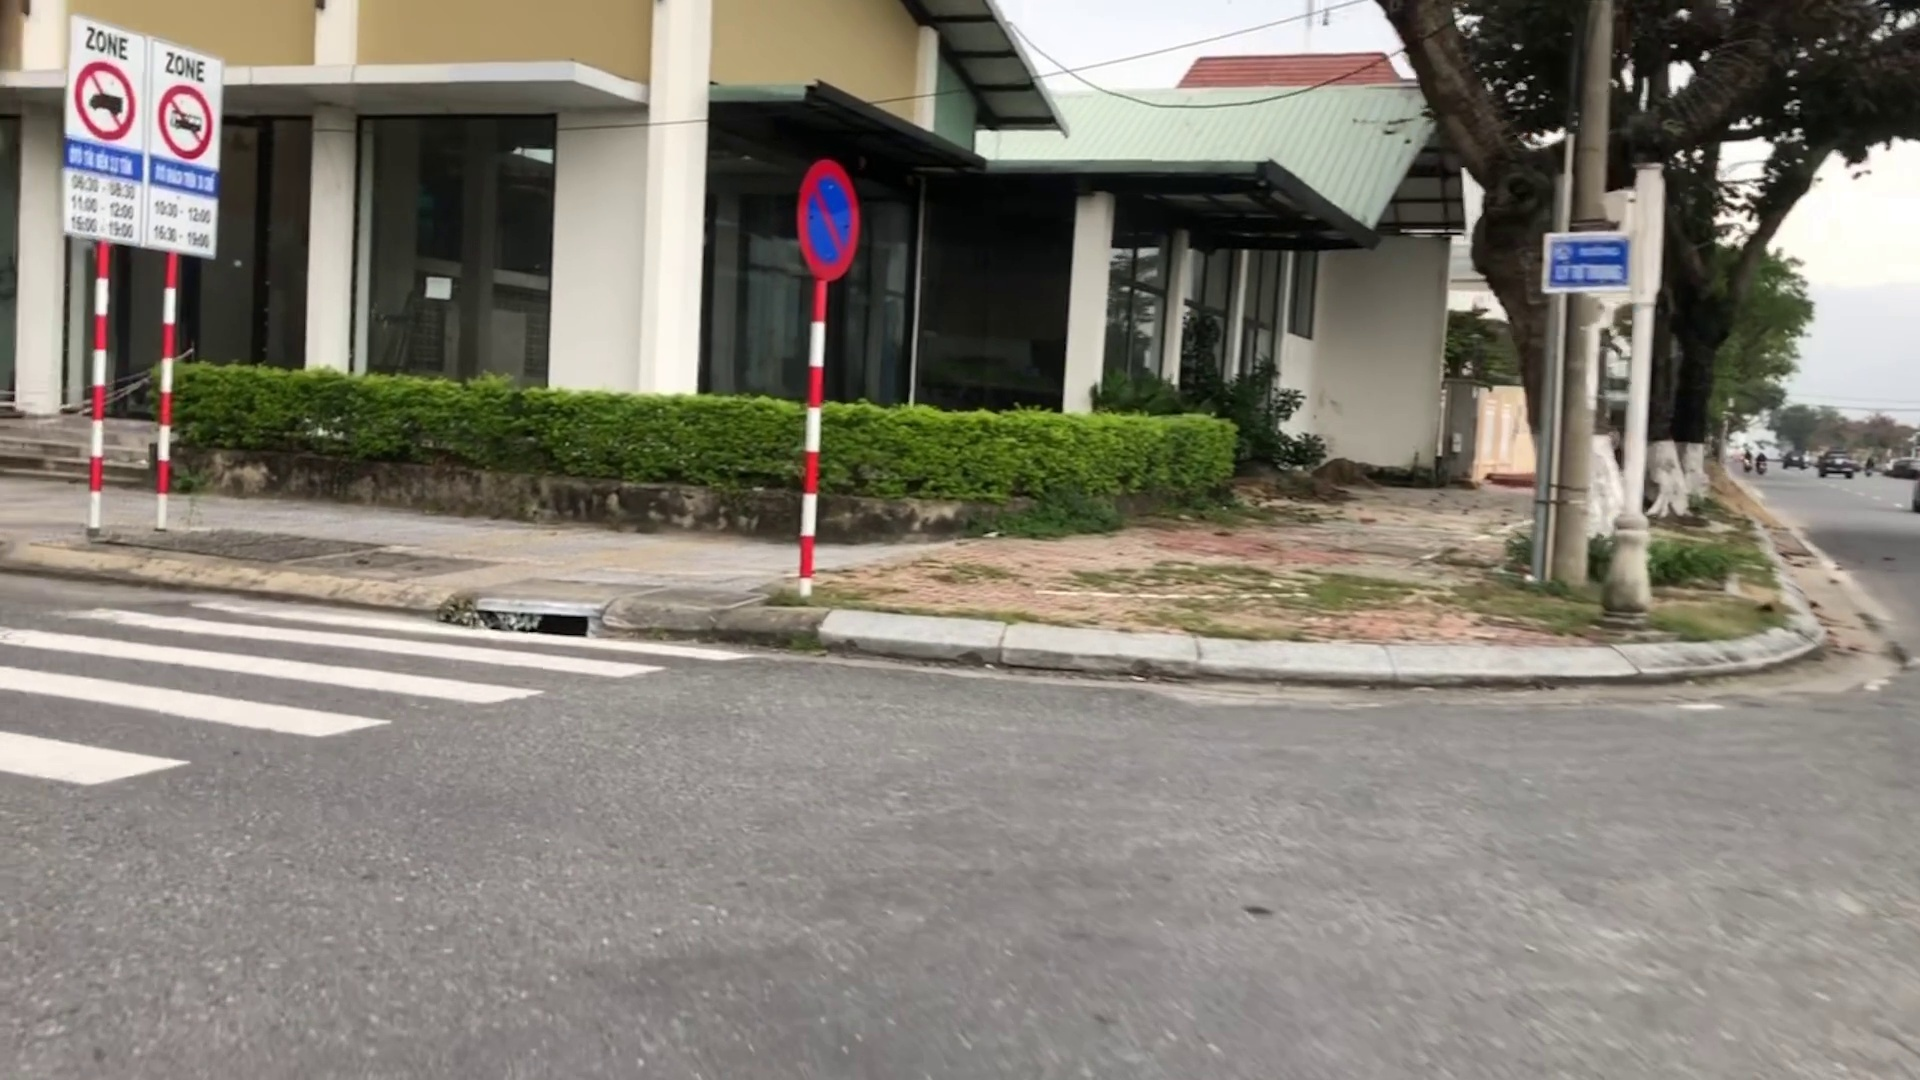Bien khac: (70, 12, 218, 258)
Cam do xe: (793, 153, 857, 287)
